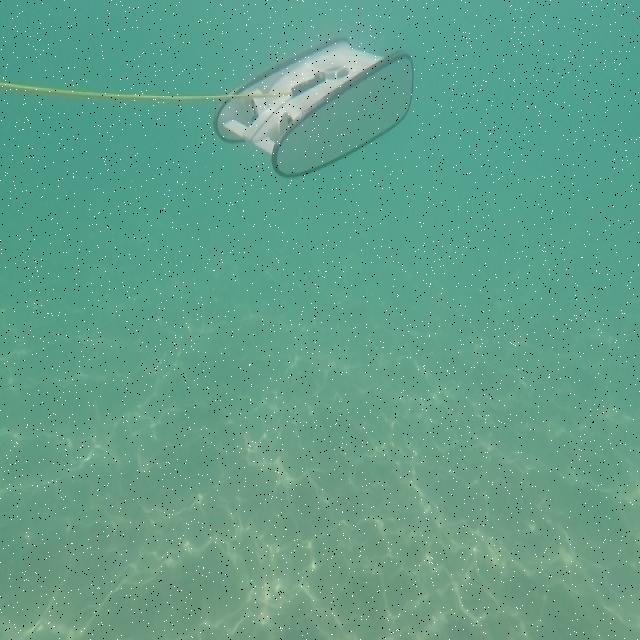robots: (0, 36, 416, 180)
